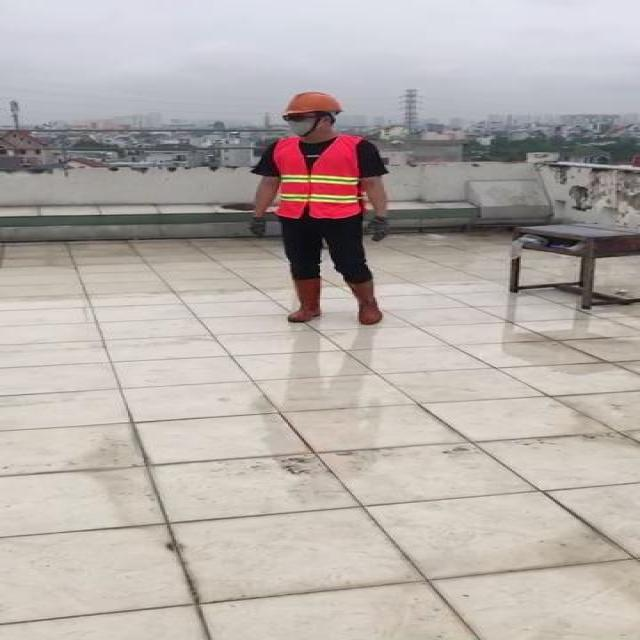boots: (345, 282, 387, 325), (284, 278, 324, 323)
face_mask: (281, 112, 316, 136)
glasses: (280, 113, 314, 124)
hand_glove: (364, 216, 390, 242), (249, 213, 272, 238)
head_helmet: (282, 90, 346, 116)
person: (245, 86, 402, 324)
vest: (272, 137, 363, 218)
